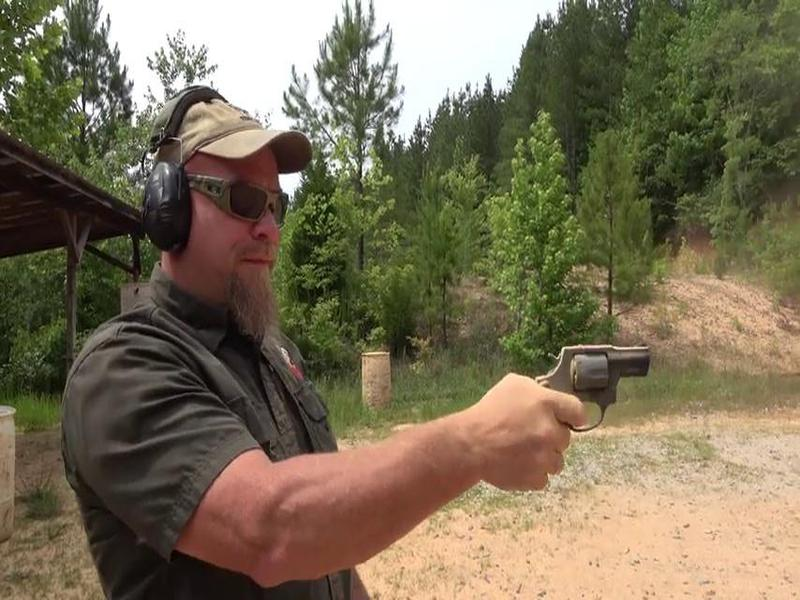Revolver: (496, 332, 672, 455)
